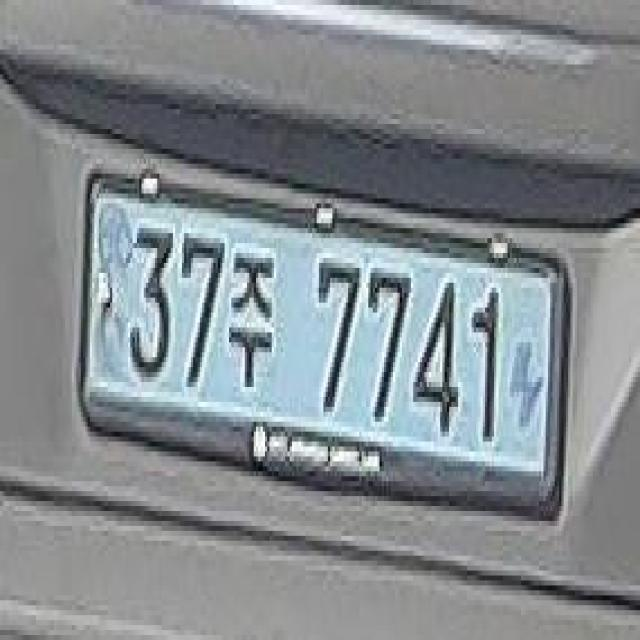EV_plate: (77, 151, 573, 539)
